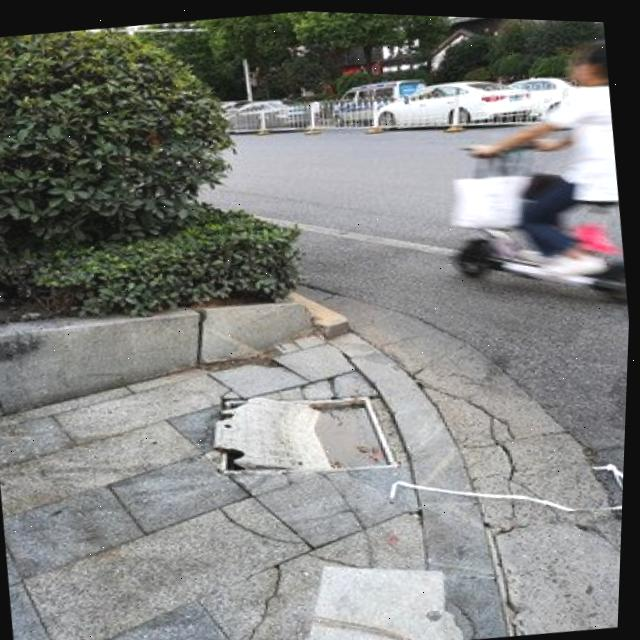manhole: (198, 366, 406, 489)
